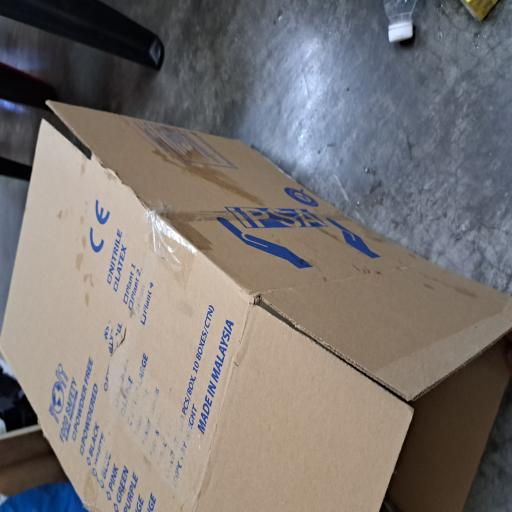cardboard: (0, 0, 309, 512)
